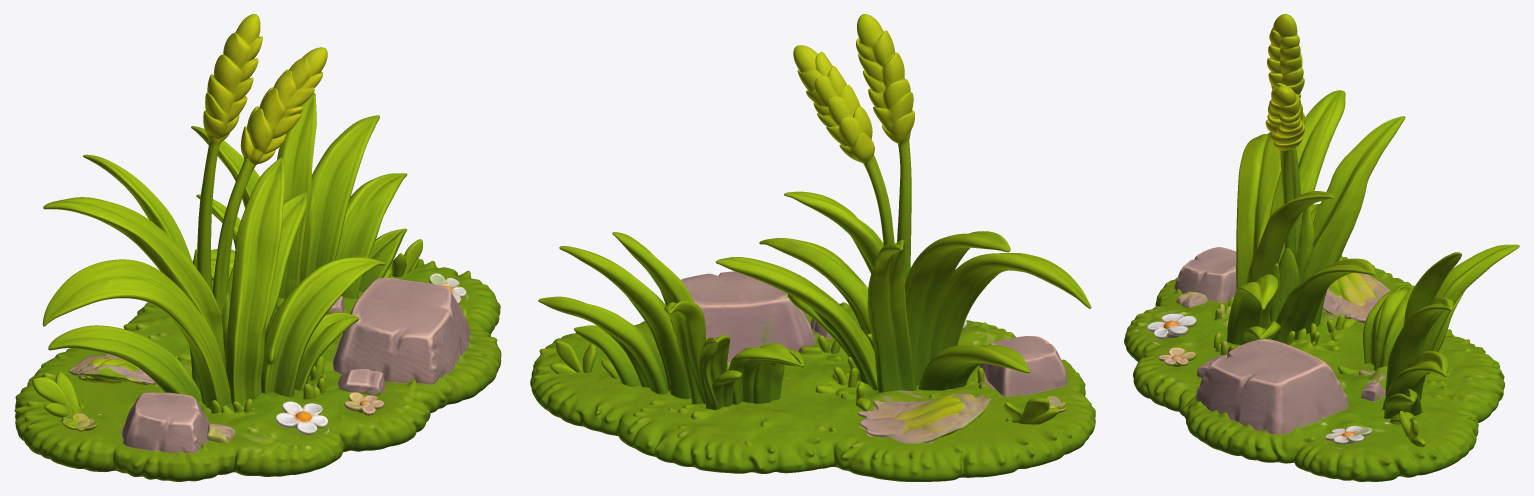
Rendered from beach-grass-green-01.glb.
3 renders of one model, left to right at view 1: azimuth 30°, elevation 25°; view 2: azimuth 150°, elevation 25°; view 3: azimuth 270°, elevation 25°, orthographic. The views are drawn at different scales.
Size of the model in its own units: 1.9 by 1.4 by 1.44.
Materials: 1 (1 with a texture image).
